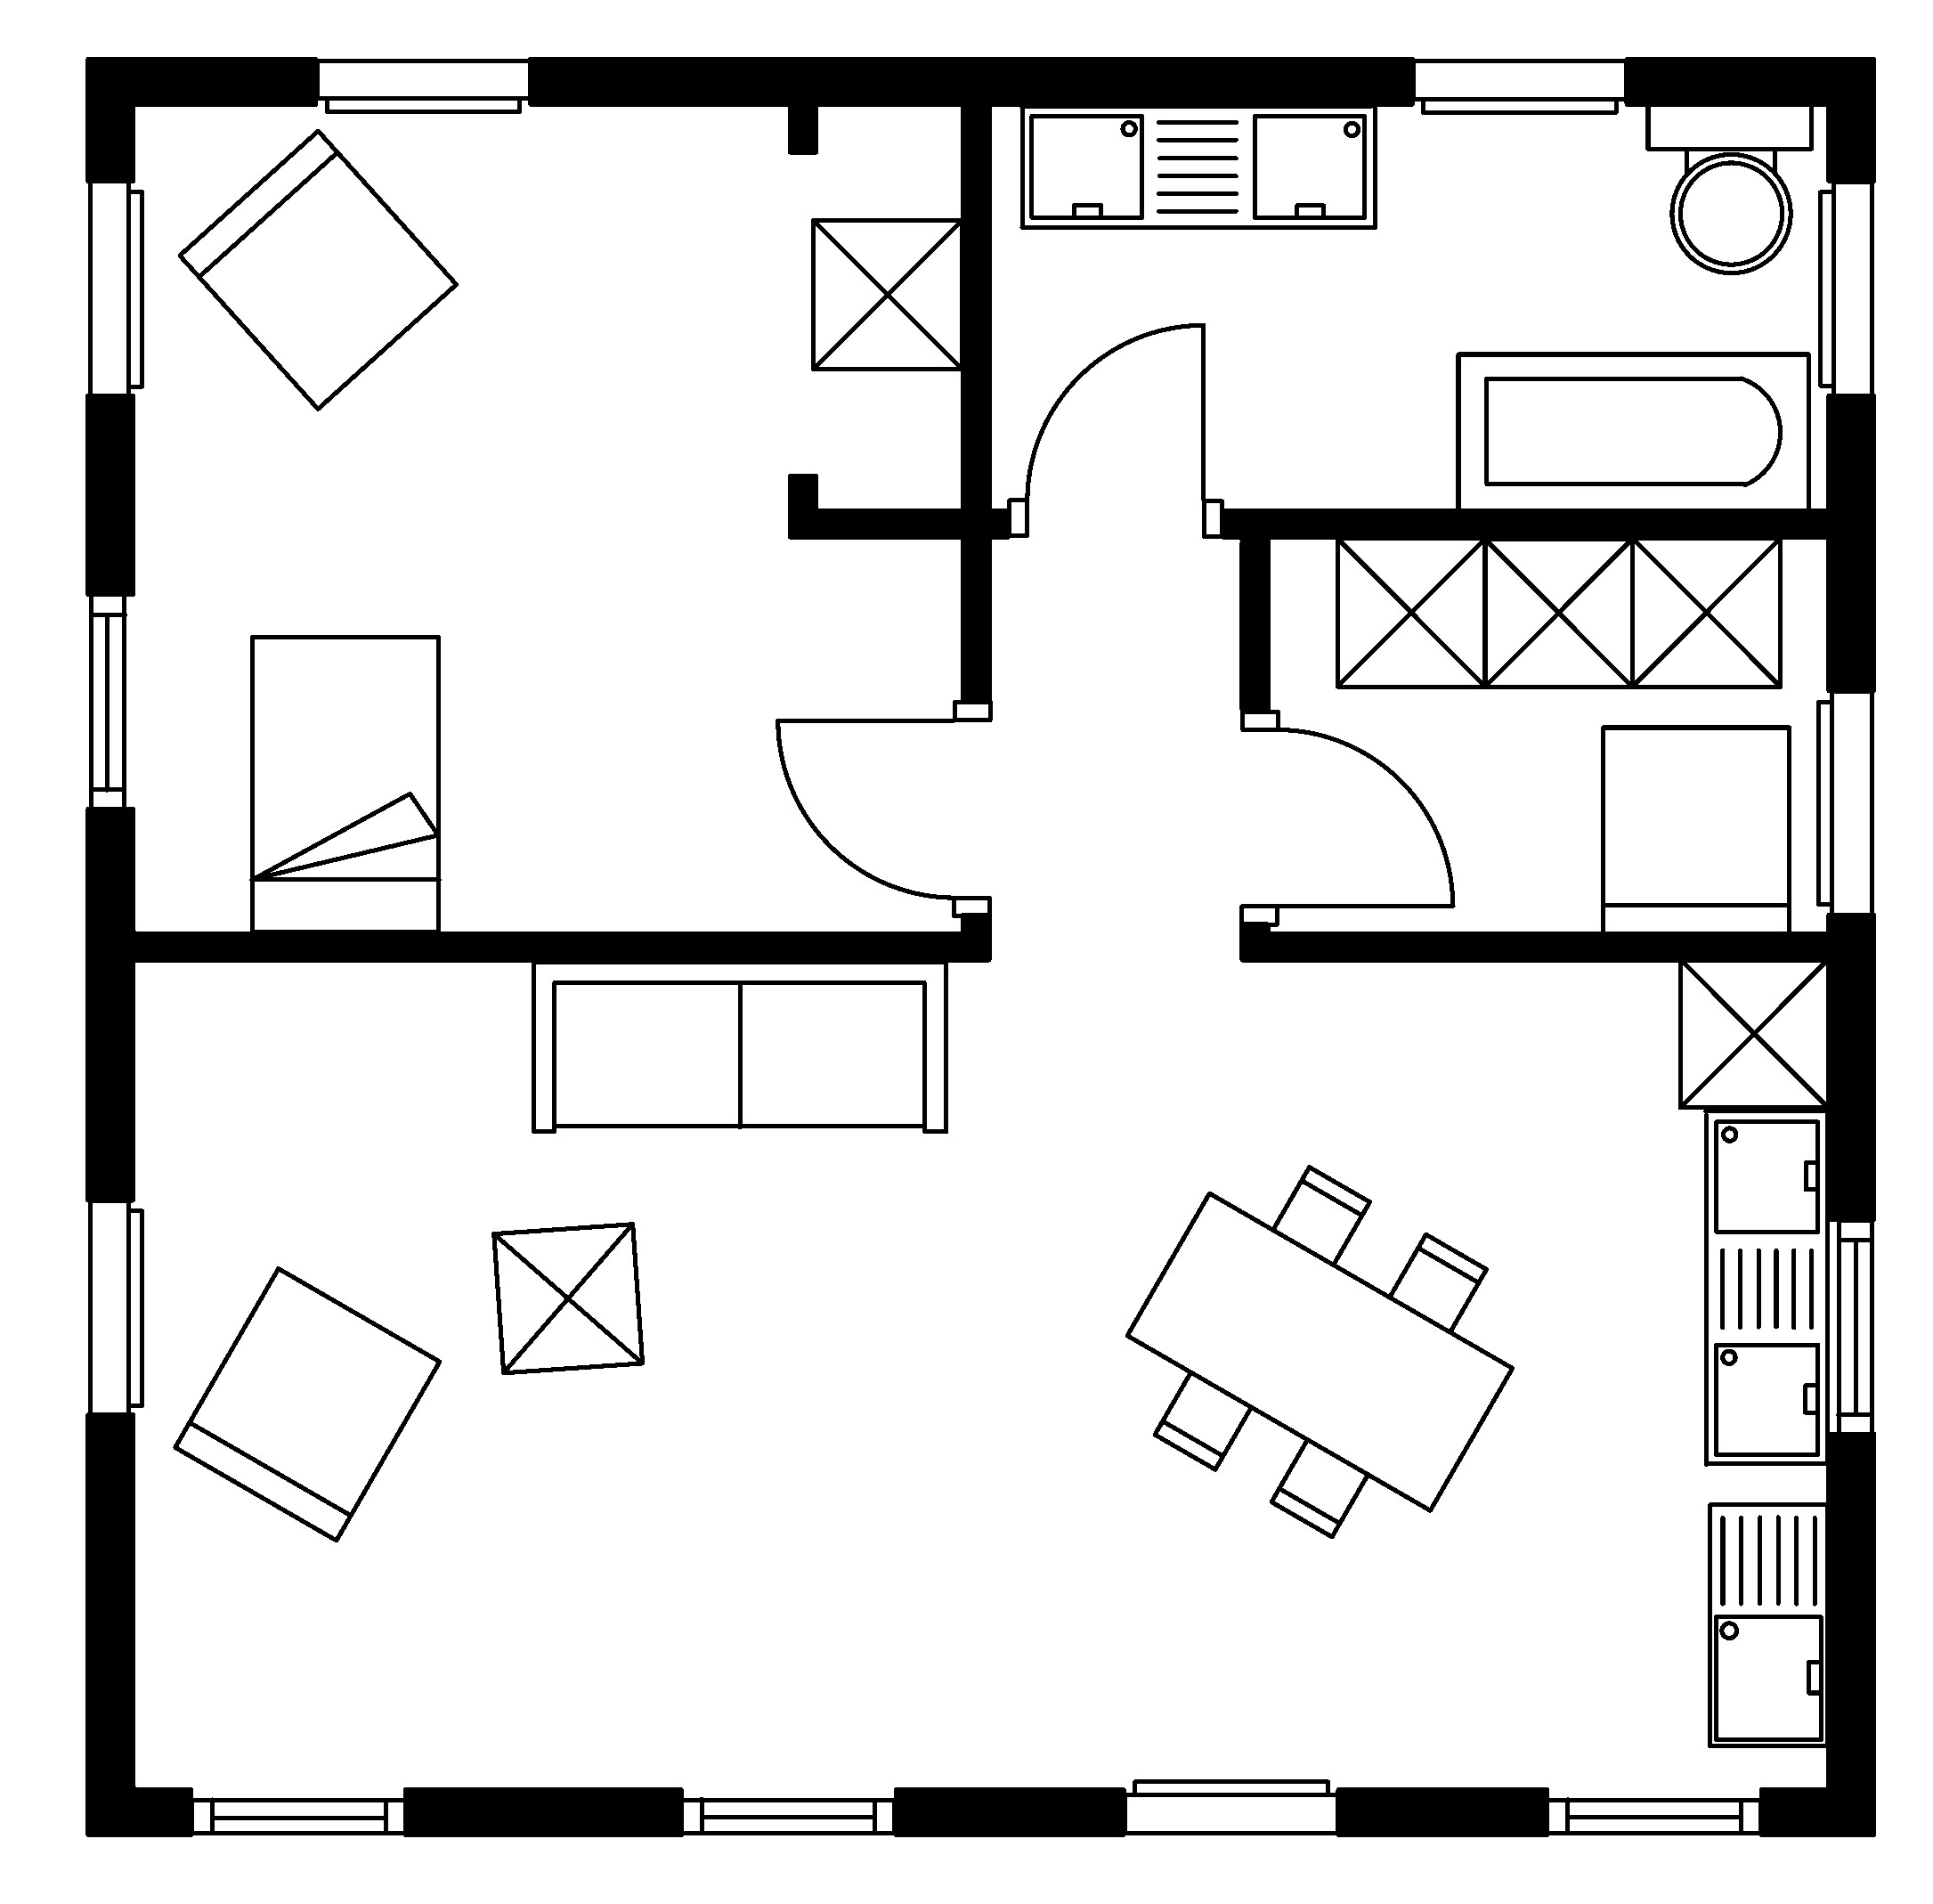bed: (248, 633, 441, 935)
coffee_table: (809, 216, 966, 371), (490, 1221, 645, 1376), (1480, 534, 1635, 689), (1628, 534, 1783, 689), (1333, 534, 1489, 689), (1675, 955, 1830, 1111)
dining_table: (1122, 1163, 1515, 1540)
large_sink: (1644, 101, 1814, 274)
large_sofa: (528, 959, 950, 1135)
sink: (1706, 1501, 1830, 1749)
small_sofa: (176, 127, 458, 411), (171, 1264, 443, 1543), (1598, 724, 1792, 936)
tub: (1454, 350, 1811, 513)
twin_sink: (1016, 101, 1379, 230), (1701, 1107, 1830, 1468)
